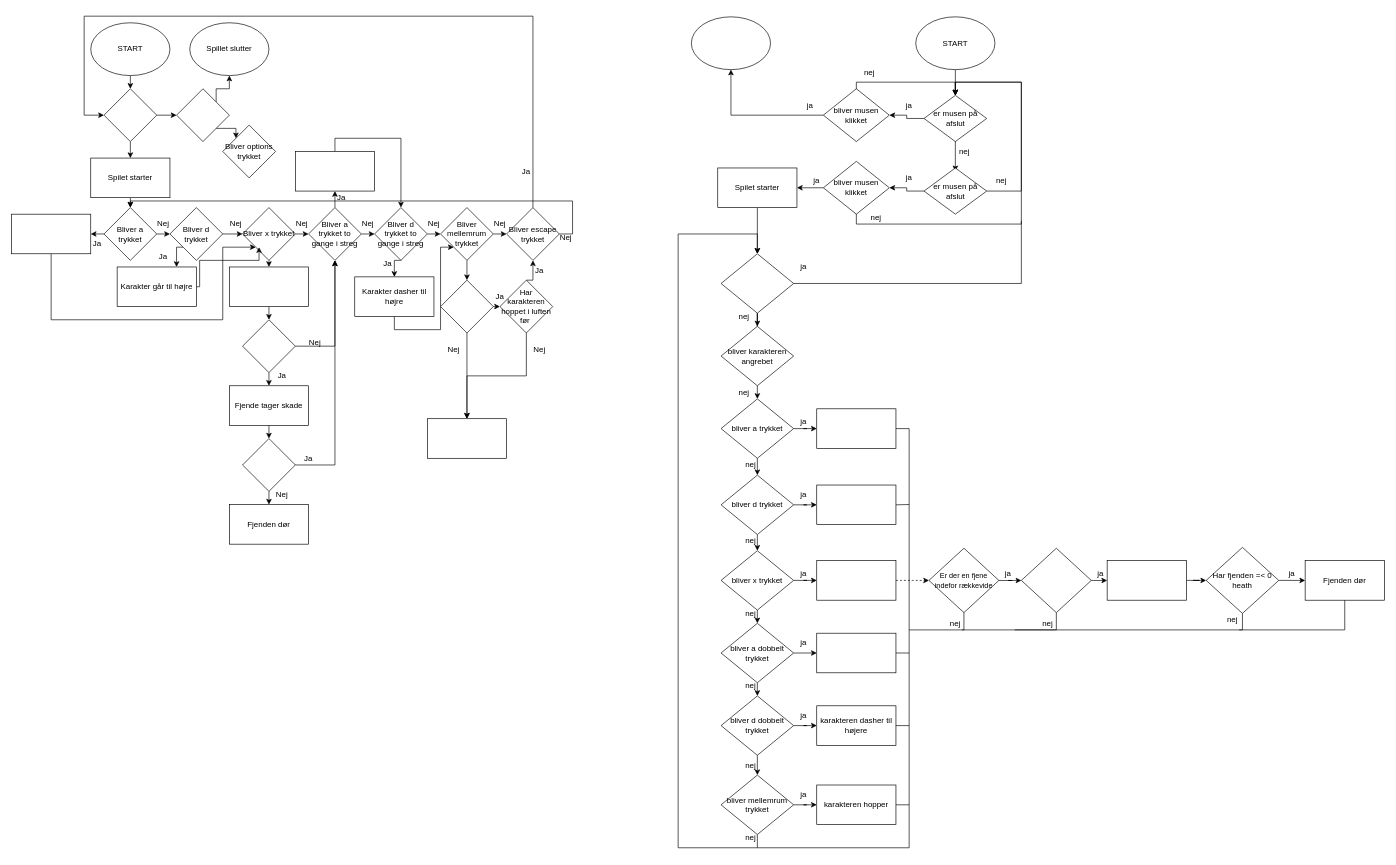
This 1396x865 diagram has some shape labels left out. The box of each missing label's shape, as (x1, y1, x2, y2) in pixels:
Bliver afslut trykket: (176, 88, 229, 142)
bliver esc trykket: (720, 253, 794, 313)
Bliver fjende ramt: (242, 319, 295, 373)
Bliver spil trykket: (103, 88, 157, 142)
er fjenden i live: (1021, 548, 1091, 613)
Er karakteren i luften: (440, 280, 493, 333)
Har fjenden liv tilbage: (242, 438, 295, 491)
Karakter angriber: (229, 266, 309, 307)
Karakter dasher til venstre: (295, 151, 375, 191)
Karakter går til venstre: (11, 214, 91, 254)
Karakter hopper: (427, 418, 507, 458)
karakteren angriber: (816, 560, 896, 600)
karakteren dasher til venstre: (816, 633, 896, 673)
Karakteren går til højere: (816, 484, 896, 525)
Karakteren går til venstre: (816, 408, 896, 448)
SLUT: (691, 16, 771, 70)
Ændre fjendens heath med -10: (1106, 560, 1186, 600)
